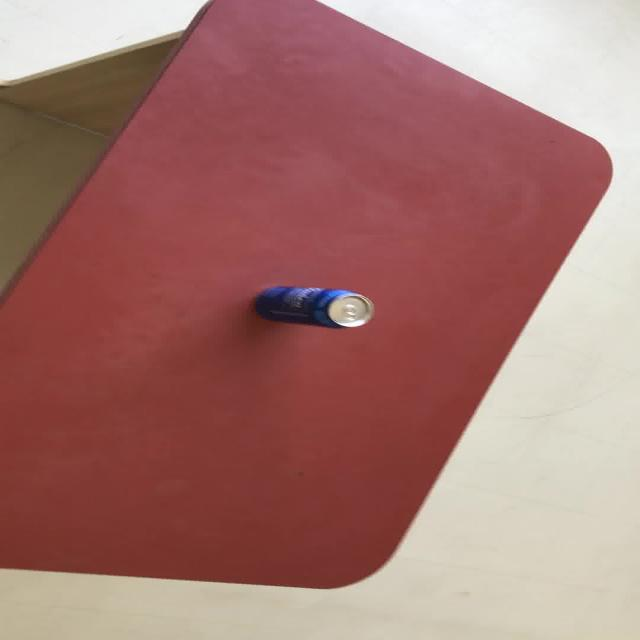tonic: (253, 284, 374, 328)
